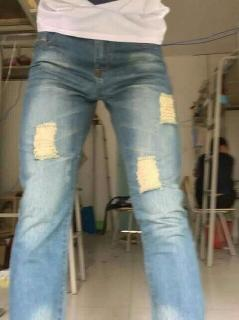trousers: (6, 25, 206, 319)
